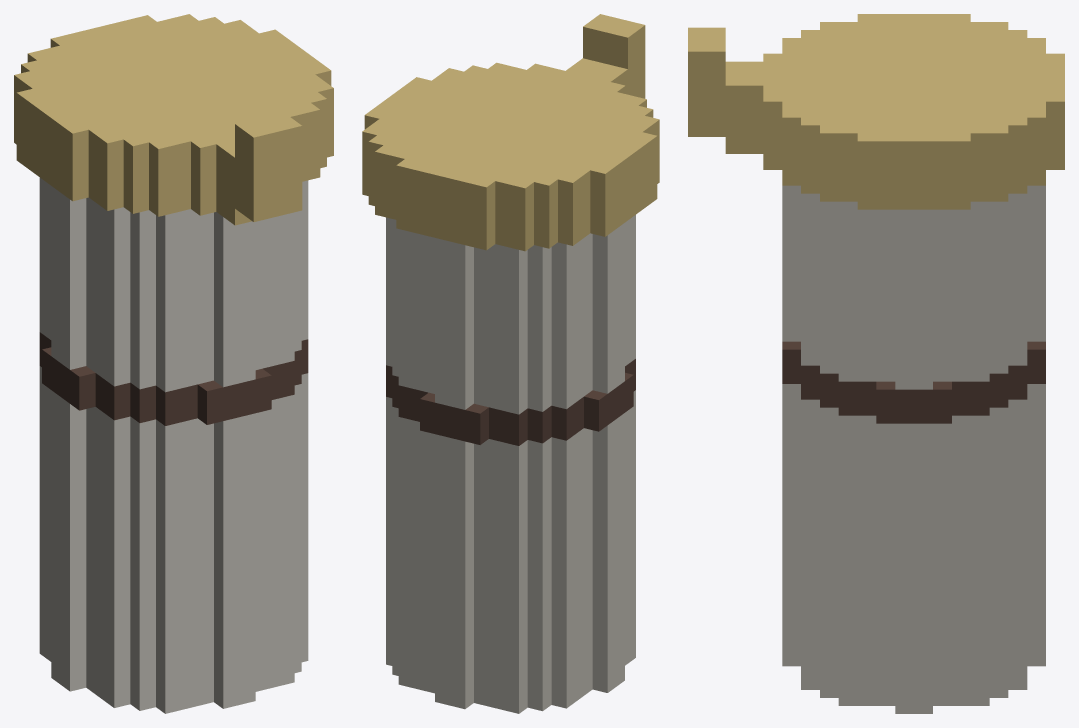
The model's file is cloth_legendary_boot_shin_L.glb.
The picture shows the model from 3 angles, left to right: view 1: azimuth 30°, elevation 25°; view 2: azimuth 150°, elevation 25°; view 3: azimuth 270°, elevation 25°; orthographic projection. The views are drawn at different scales.
Visible parts, largest first — view 1: cloth_legendary_boot_shin_L; view 2: cloth_legendary_boot_shin_L; view 3: cloth_legendary_boot_shin_L.
Part boxes in pixels (x1,y1,x2,y2): cloth_legendary_boot_shin_L: (14, 14, 333, 713); cloth_legendary_boot_shin_L: (362, 14, 659, 713); cloth_legendary_boot_shin_L: (688, 14, 1064, 713).
Bounding box in the file's own units: 0.192 × 0.432 × 0.24.
